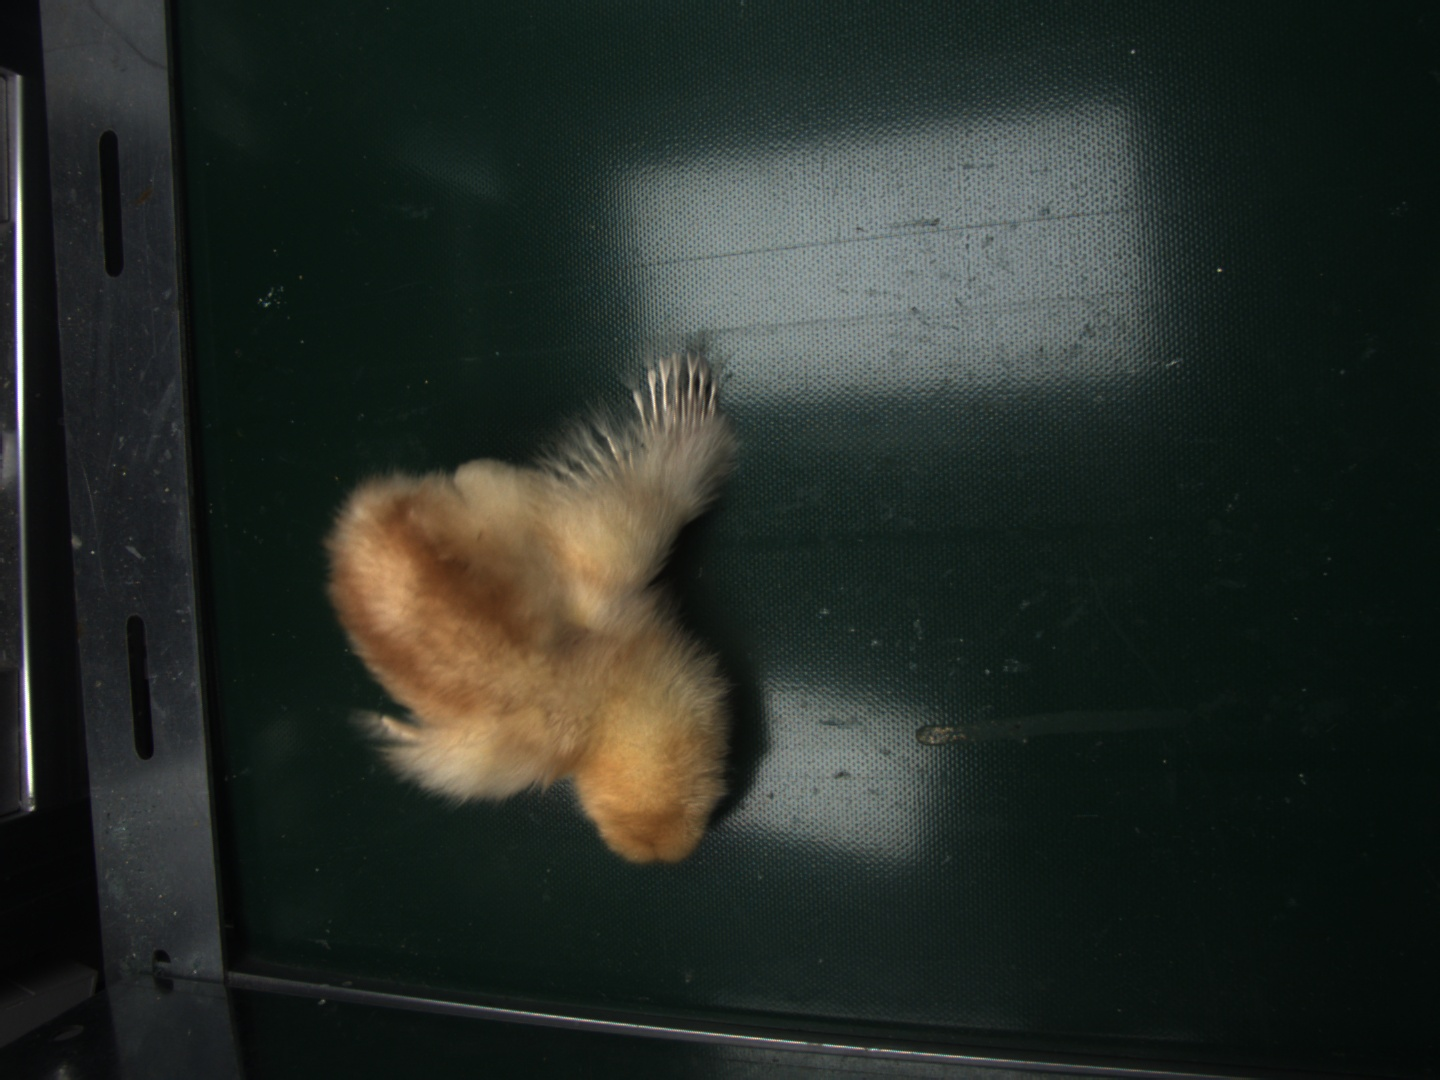female: (636, 353, 721, 432)
